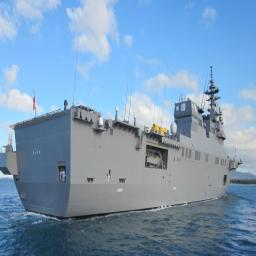Portanaves: (6, 61, 246, 224)
